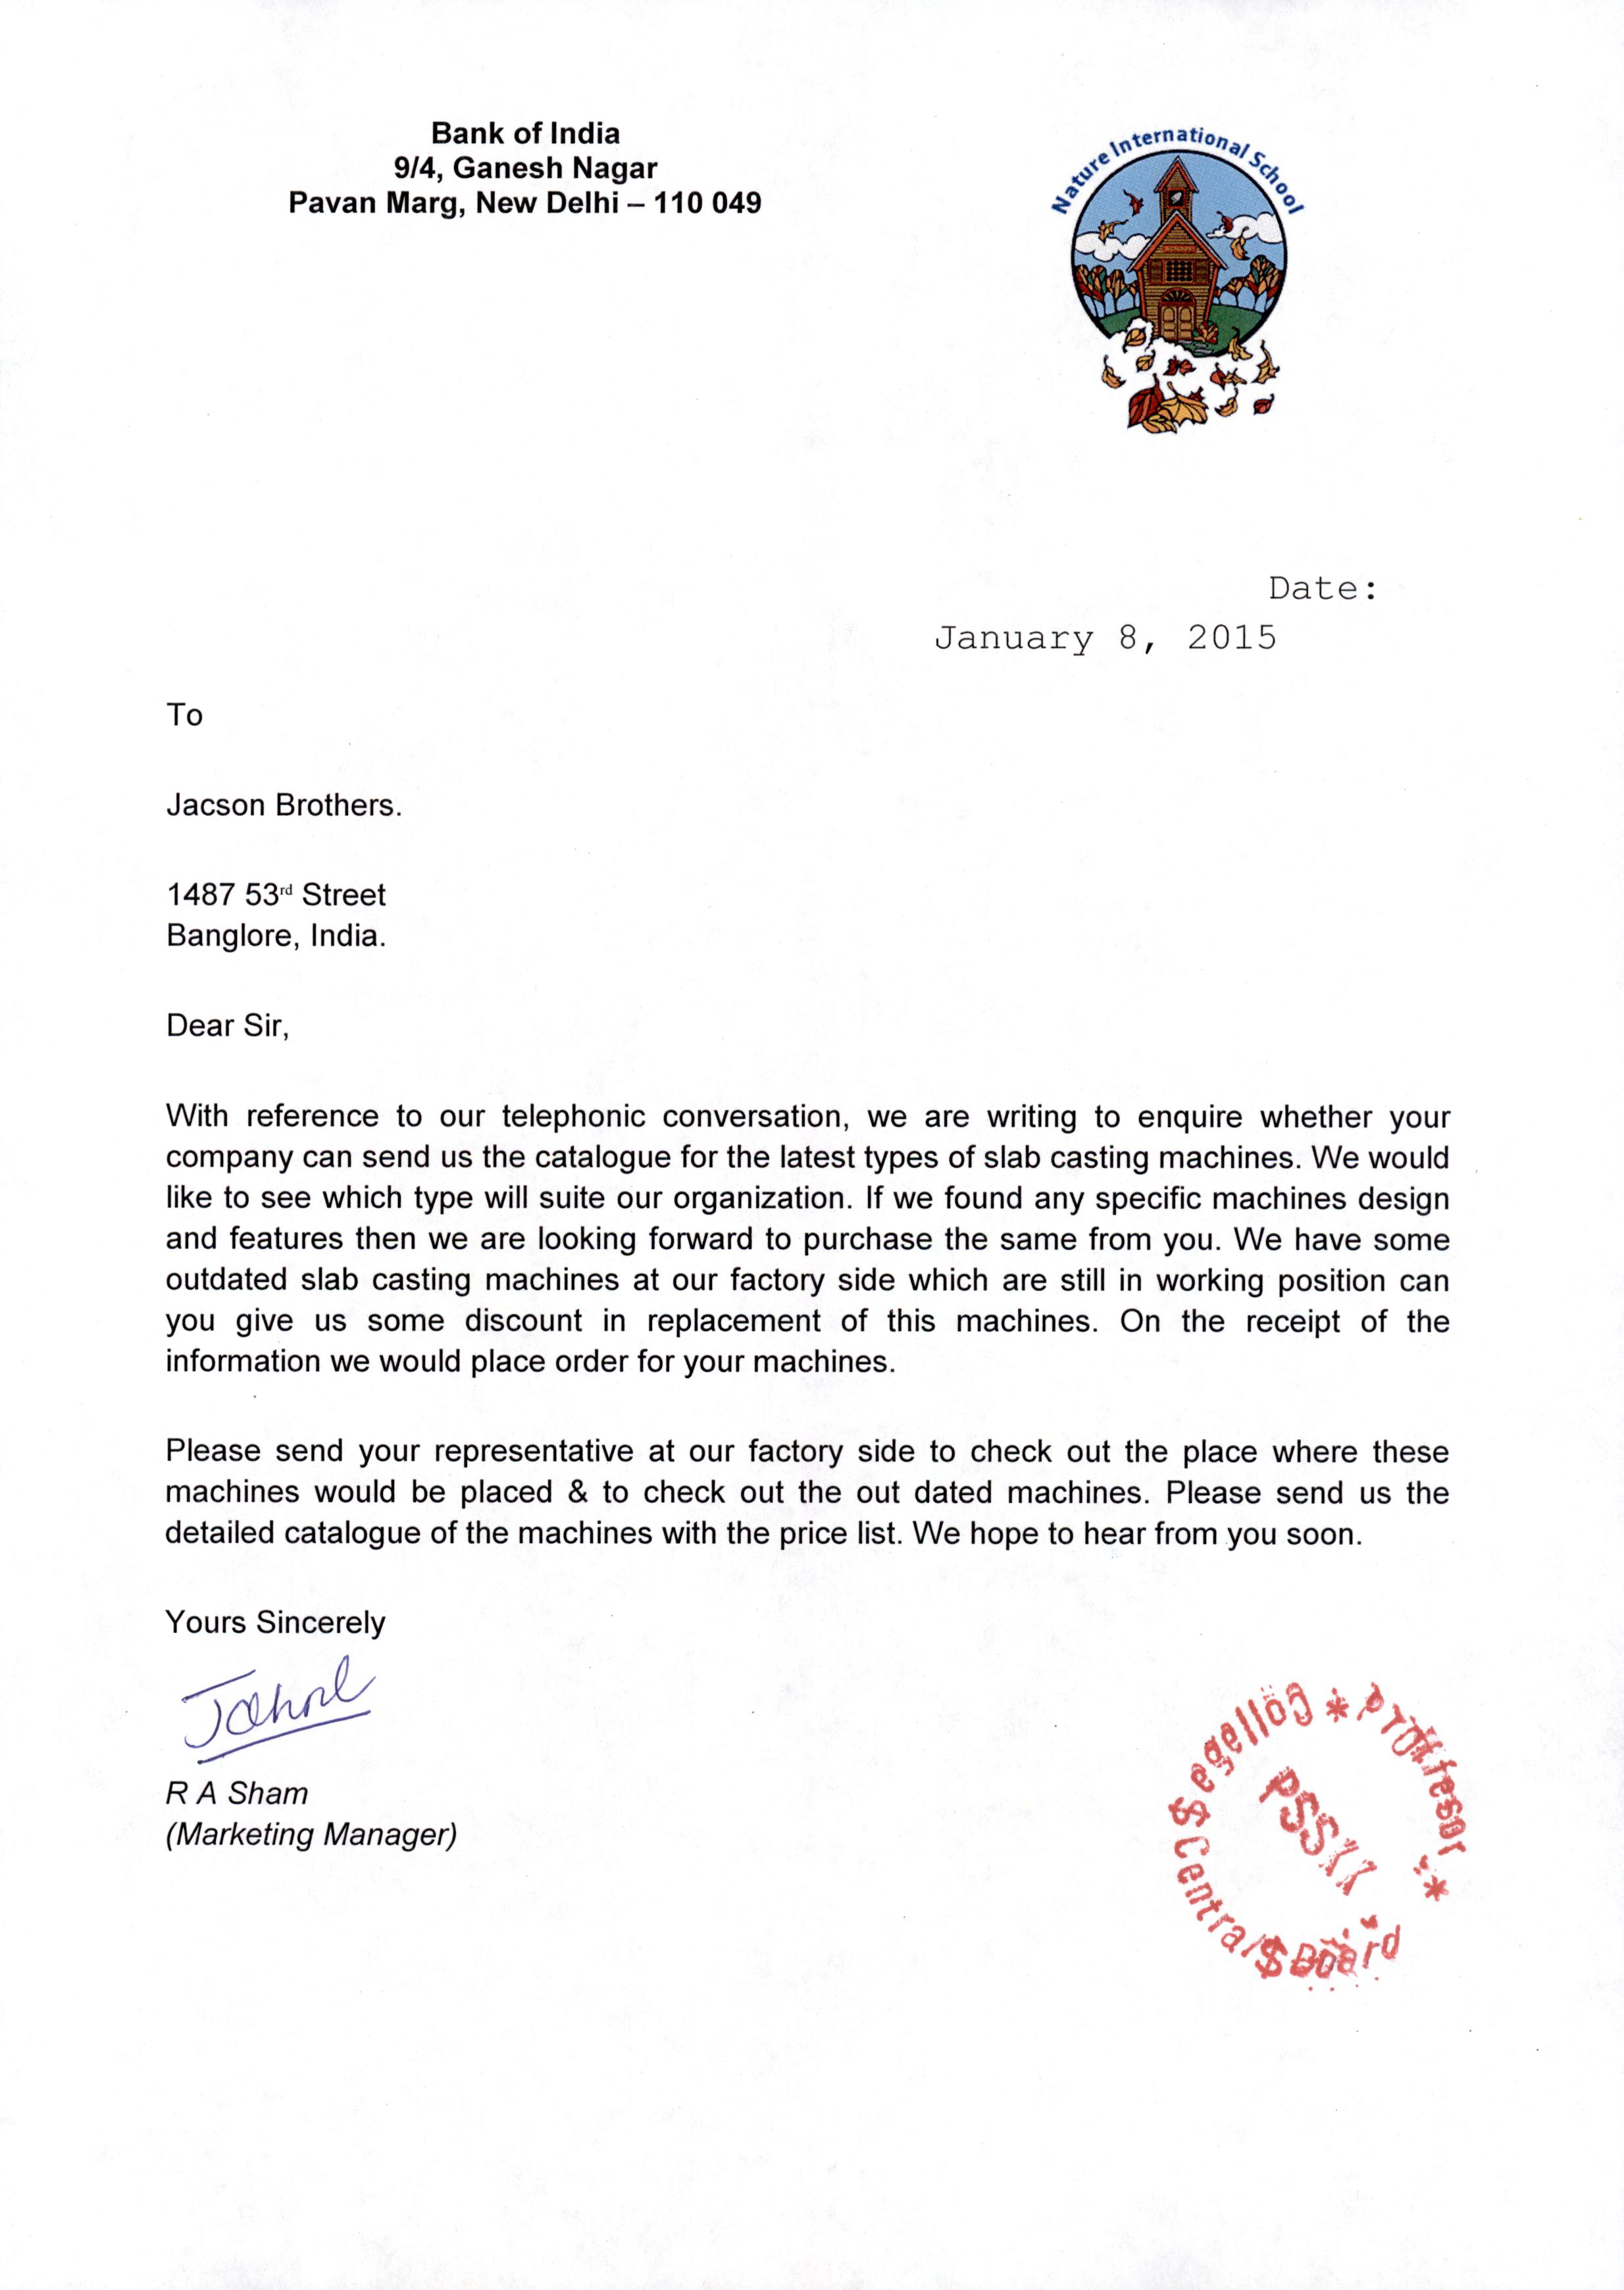Signature: (169, 1647, 385, 1766)
